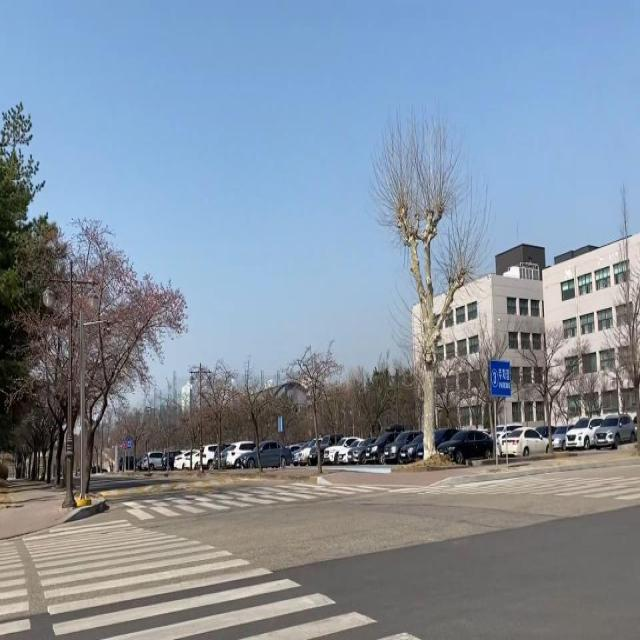sidewalk: (125, 452, 640, 486), (0, 481, 105, 539)
